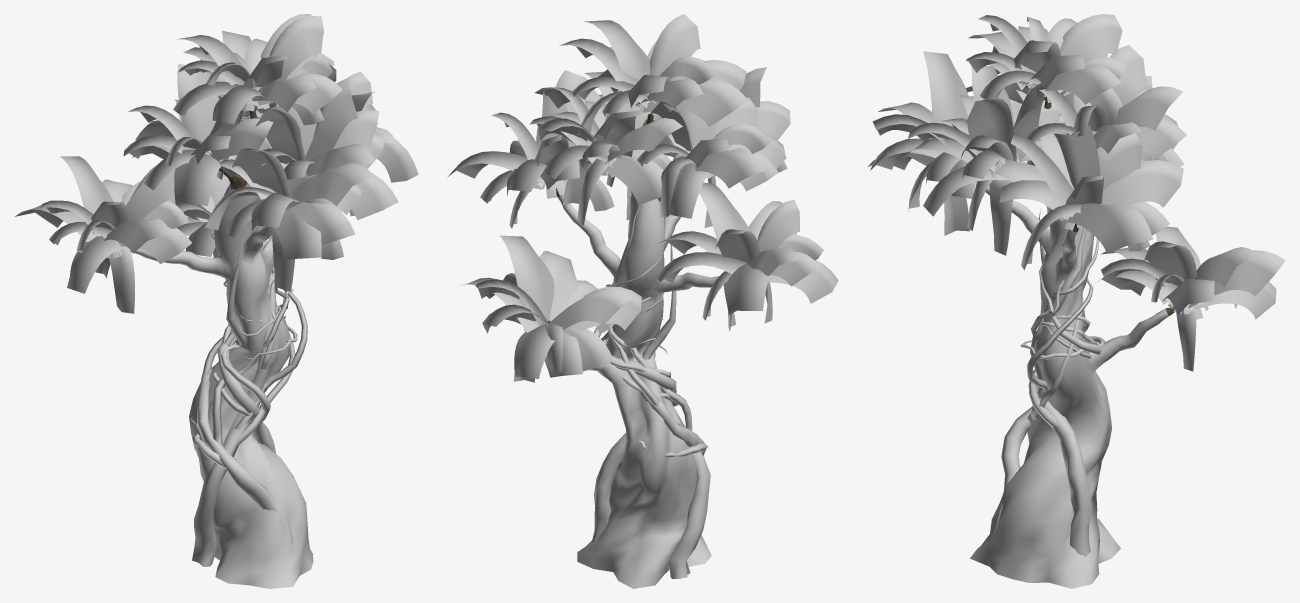
The model's file is Plant6_2_L0.fbx.
The picture shows the model from 3 angles, left to right: view 1: azimuth 30°, elevation 25°; view 2: azimuth 150°, elevation 25°; view 3: azimuth 270°, elevation 25°; orthographic projection. The views are drawn at different scales.
Parts seen in each view (by area): view 1: polySurface2187; view 2: polySurface2187; view 3: polySurface2187.
Boxes of the visible parts, x1,y1,x2,y2 form: polySurface2187: [15, 14, 418, 588]; polySurface2187: [448, 14, 838, 588]; polySurface2187: [868, 14, 1285, 588].
Size of the model in its own units: 634 by 930 by 649.
